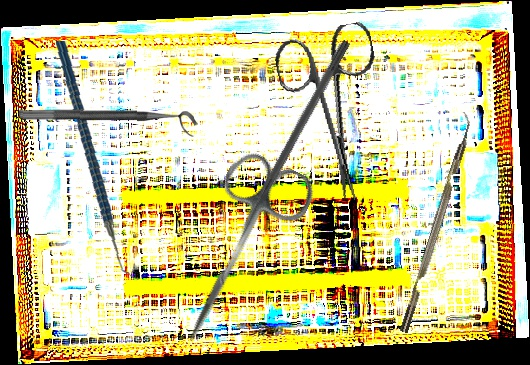Chopper: (39, 40, 158, 281), (389, 110, 478, 334)
Fixation Ring: (18, 108, 199, 138)
Iris Scissors: (154, 144, 320, 362), (271, 20, 401, 210)
Pusher: (238, 38, 352, 228)
